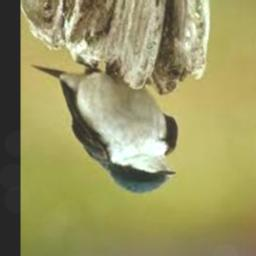Swallow: (32, 63, 177, 193)
